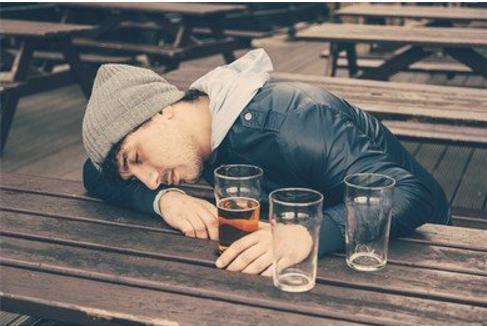Drunk: (114, 122, 207, 191)
